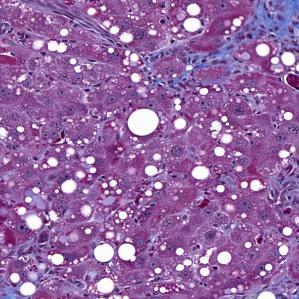fibrosis: (142, 41, 223, 87), (229, 0, 299, 53)
